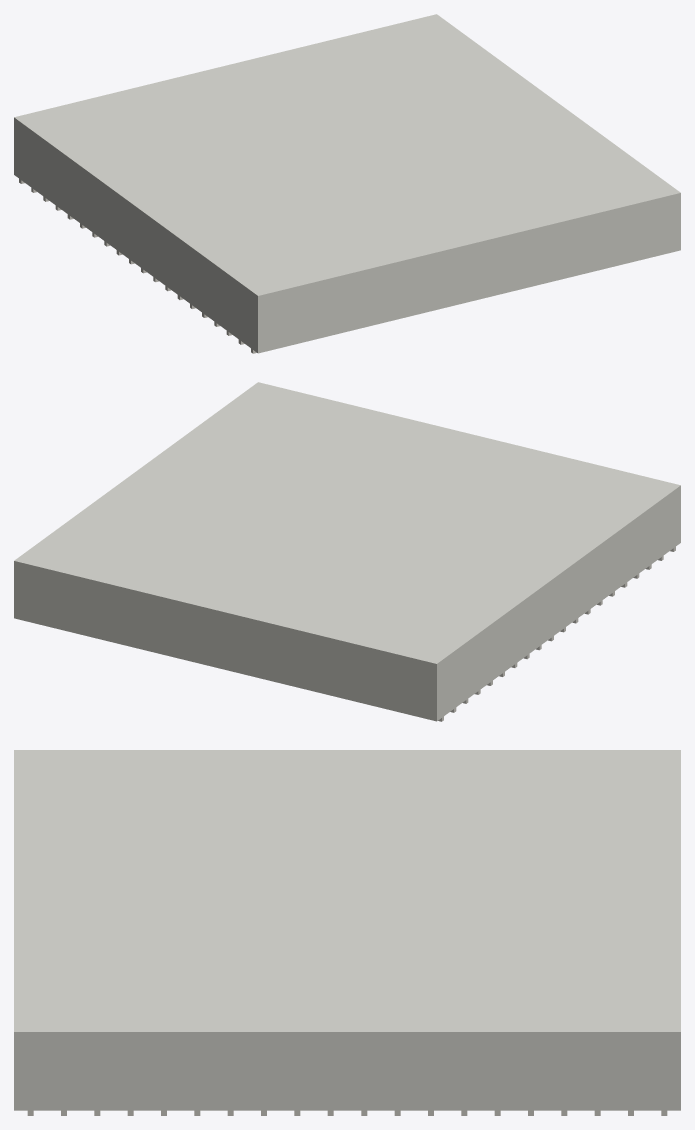
Rendered from MPS_Roof_Panel_2x2m.fbx.
3 renders of one model, top to bottom at view 1: azimuth 30°, elevation 25°; view 2: azimuth 150°, elevation 25°; view 3: azimuth 270°, elevation 25°, orthographic. The views are drawn at different scales.
Parts seen in each view (by area): view 1: Body; view 2: Body; view 3: Body.
Part boxes in pixels (x1,y1,x2,y2): Body: [14, 14, 680, 353]; Body: [14, 382, 680, 721]; Body: [14, 750, 680, 1115].
Size of the model in its own units: 2 by 0.32 by 2.
